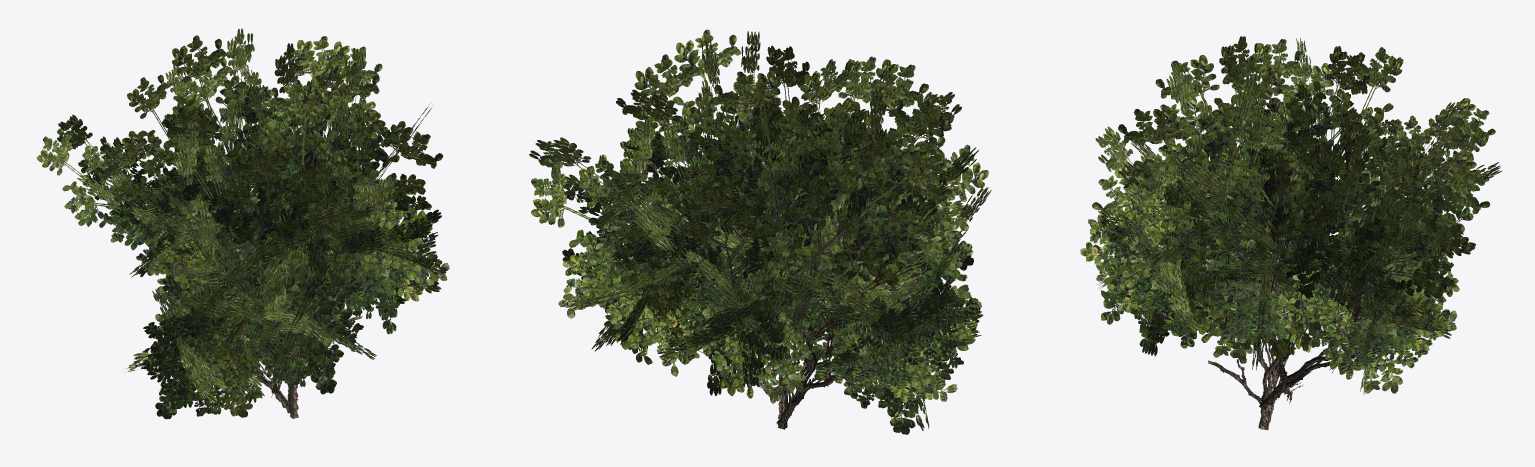
The model's file is Buisson.FBX.
3 views of the same model, side by side, from view 1: azimuth 30°, elevation 25°; view 2: azimuth 150°, elevation 25°; view 3: azimuth 270°, elevation 25° (orthographic). The views are drawn at different scales.
Visible parts, largest first — view 1: Bush1; view 2: Bush1; view 3: Bush1.
Boxes of the visible parts, box(x1,y1,x2,y2) form: Bush1: box(36, 28, 449, 419); Bush1: box(529, 29, 991, 434); Bush1: box(1080, 36, 1501, 430).
Size of the model in its own units: 3.18 by 3.02 by 3.12.
1 material, 1 textured.
